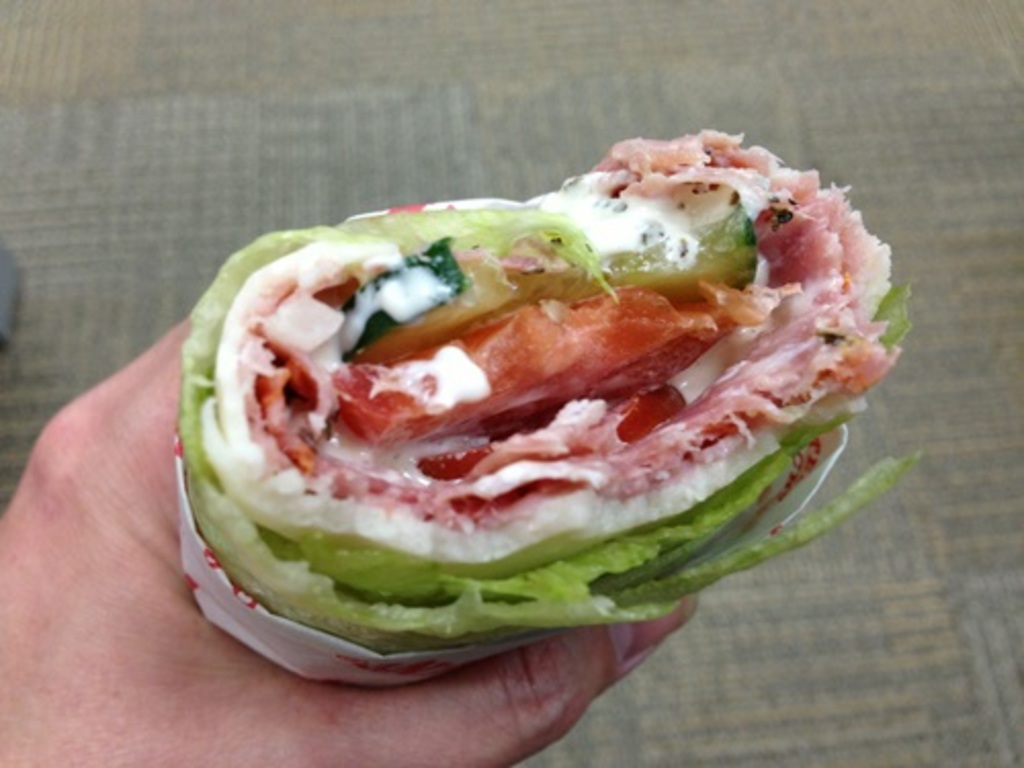sandwich: (174, 115, 926, 655)
